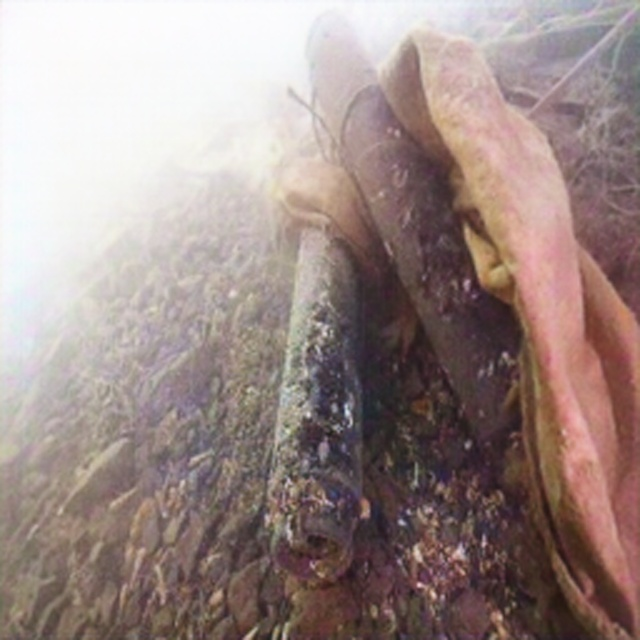mine: (303, 7, 535, 441), (268, 226, 363, 582)
